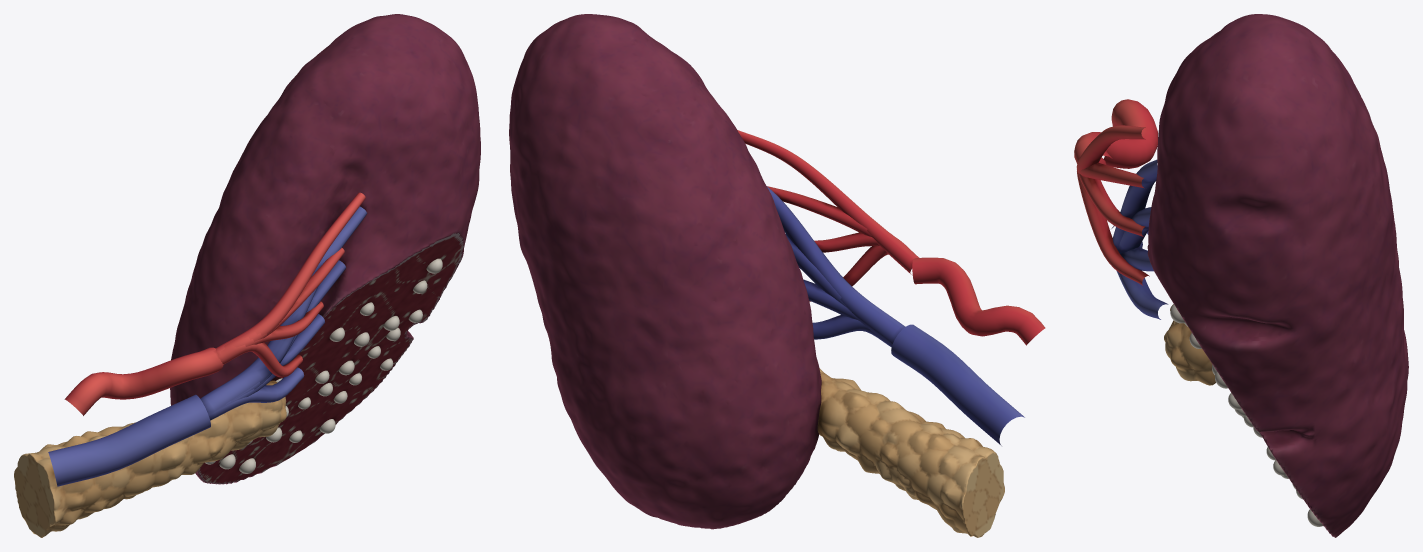
File: spleen.15c1fd75.glb
The picture shows the model from 3 angles, left to right: view 1: azimuth 30°, elevation 25°; view 2: azimuth 150°, elevation 25°; view 3: azimuth 270°, elevation 25°; orthographic projection. The views are drawn at different scales.
Parts seen in each view (by area): view 1: Spleen, Tail of pancreas, Splenic vein, Splenic artery, White pulp; view 2: Spleen, Tail of pancreas, Splenic vein, Splenic artery; view 3: Spleen, Splenic artery, Splenic vein, Tail of pancreas, White pulp.
Part boxes in pixels (x1,y1,x2,y2): Spleen: (170,14,480,484); Tail of pancreas: (14,380,286,537); Splenic vein: (48,206,367,486); Splenic artery: (64,192,365,415); White pulp: (205,258,442,473); Spleen: (509,14,821,529); Tail of pancreas: (817,368,1004,537); Splenic vein: (766,186,1024,445); Splenic artery: (737,130,1045,345); Spleen: (1147,14,1408,537); Splenic artery: (1074,99,1157,285); Splenic vein: (1111,159,1168,319); Tail of pancreas: (1164,304,1215,385); White pulp: (1170,304,1323,526).
Bounding box in the file's own units: 2.48 × 2.32 × 1.25.
